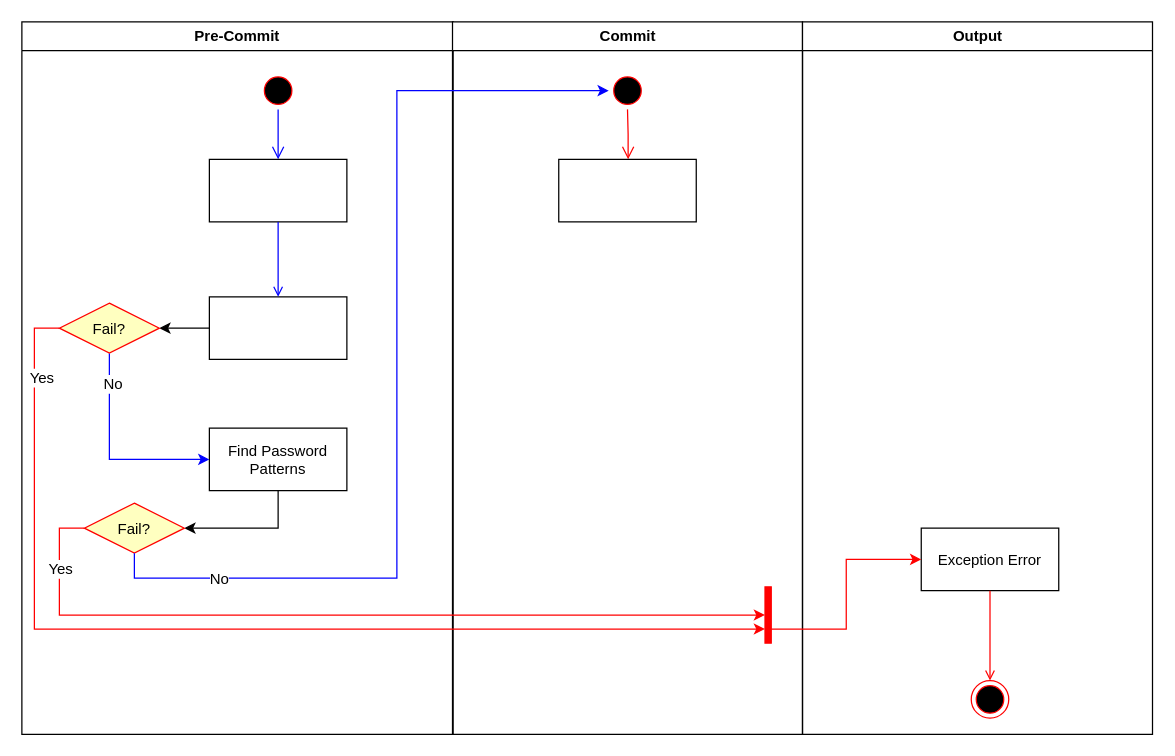
Image size: 1175x756. Some labels were removed from this diagram. Here are the shapes that lost their labels. From the top down, the centre of each, then its label:
point 277,190: Find .vault Files
point 627,190: Start Build Process
point 277,327: Check Encryption
